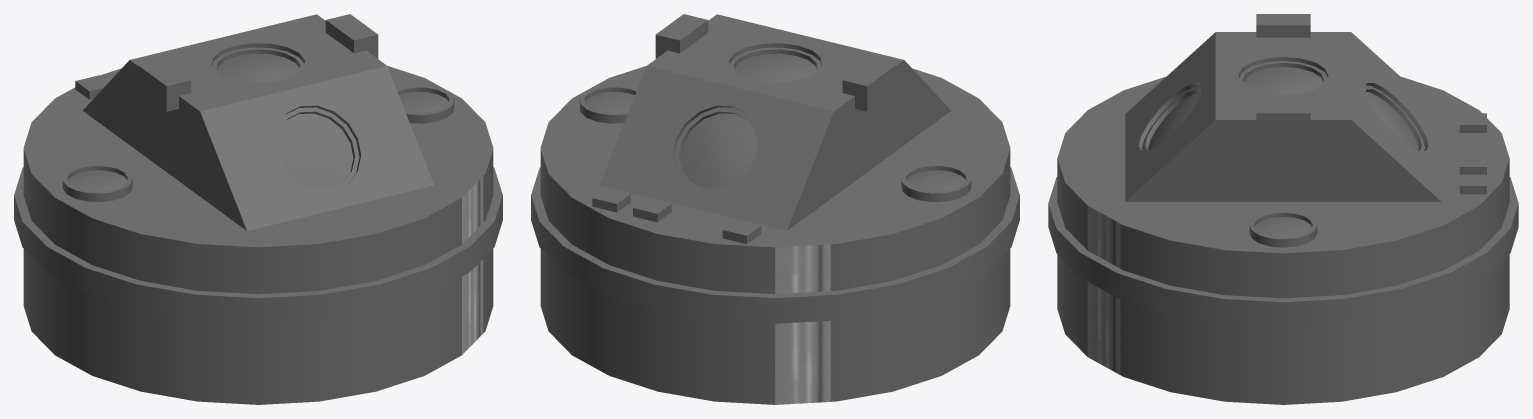
File: nashira_cupola_s1_1_cyl.obj
3 renders of one model, left to right at view 1: azimuth 30°, elevation 25°; view 2: azimuth 150°, elevation 25°; view 3: azimuth 270°, elevation 25°, orthographic. The views are drawn at different scales.
Parts seen in each view (by area): view 1: 1, w1; view 2: 1, w1; view 3: 1, w1.
Part boxes in pixels (<box>): 1: <box>14,14,502,404</box>; w1: <box>68,53,448,191</box>; 1: <box>531,14,1019,404</box>; w1: <box>585,53,965,191</box>; 1: <box>1048,14,1518,404</box>; w1: <box>1148,67,1418,237</box>.
Size of the model in its own units: 1.3 by 0.75 by 1.3.
2 materials, 2 textured.
